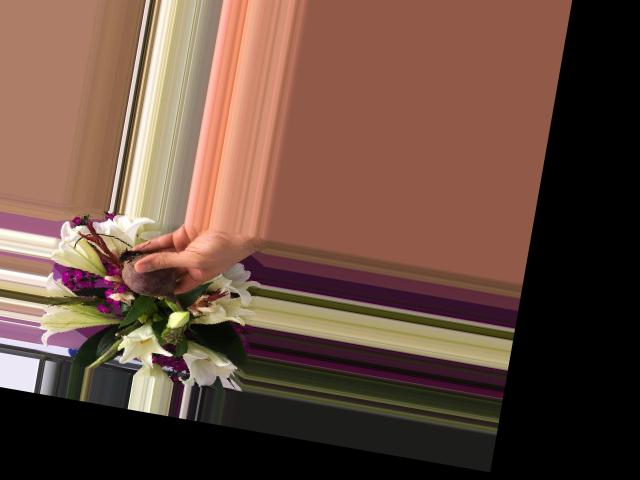beet: (111, 247, 195, 312)
